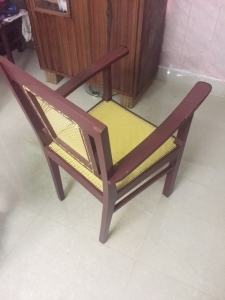chair: (1, 45, 213, 244)
